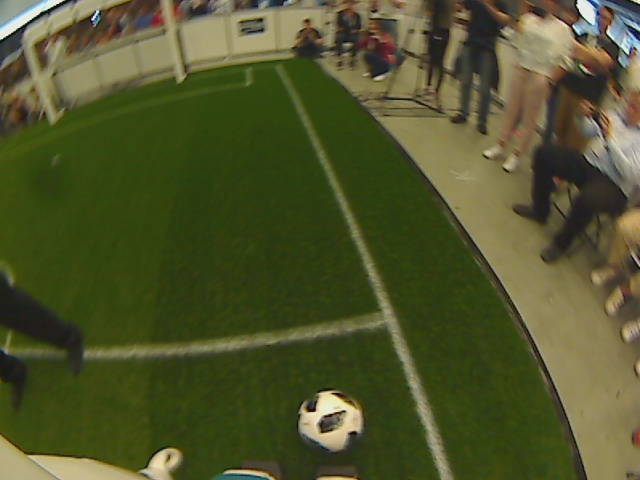ball: (294, 389, 365, 454)
